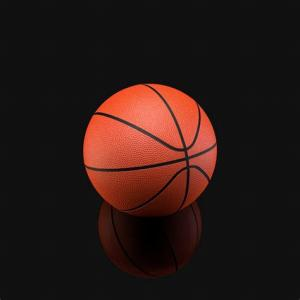Basket: (82, 82, 218, 218)
